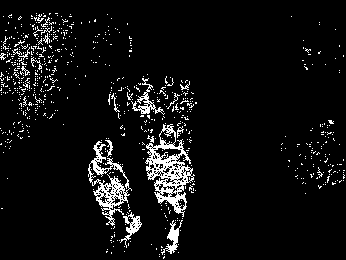person: (145, 127, 198, 258), (86, 137, 143, 256), (107, 75, 134, 139), (130, 73, 158, 132), (173, 78, 198, 127), (157, 75, 178, 128)
